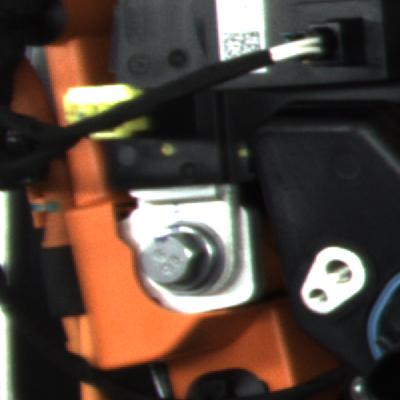nut_b: (131, 211, 238, 301)
